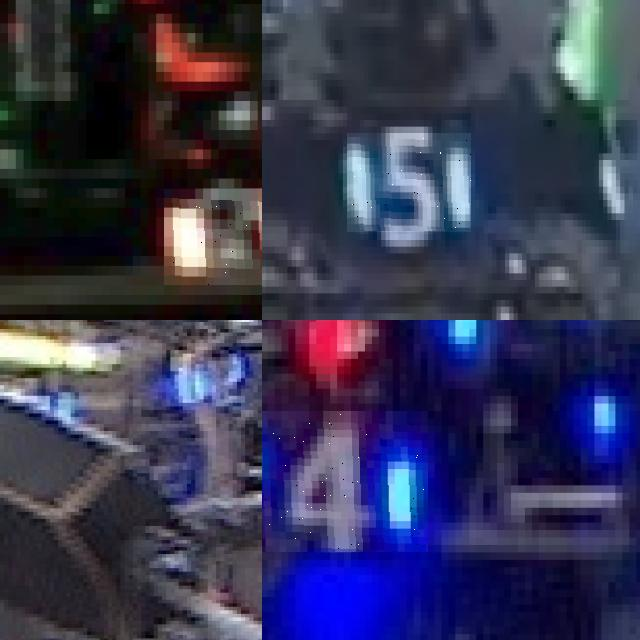B4: (262, 410, 427, 552)
B5: (347, 134, 471, 234)
Rs: (164, 188, 262, 285)
